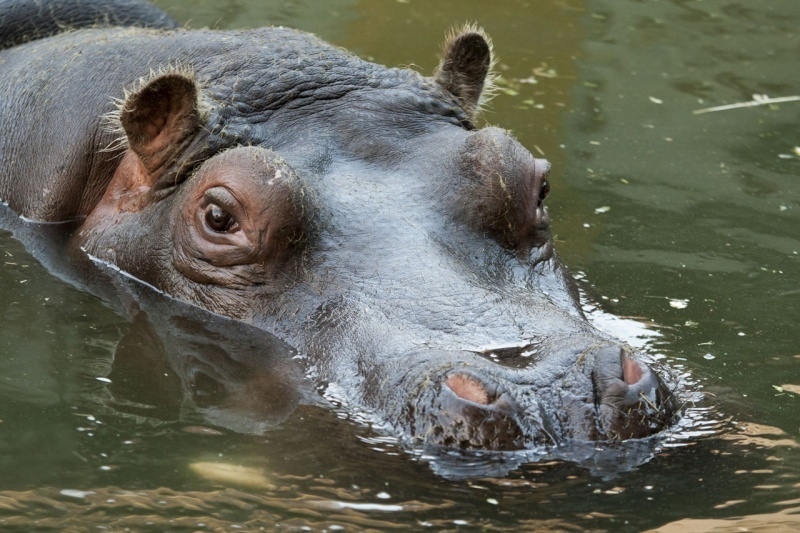hipopotamo: (1, 1, 721, 490)
